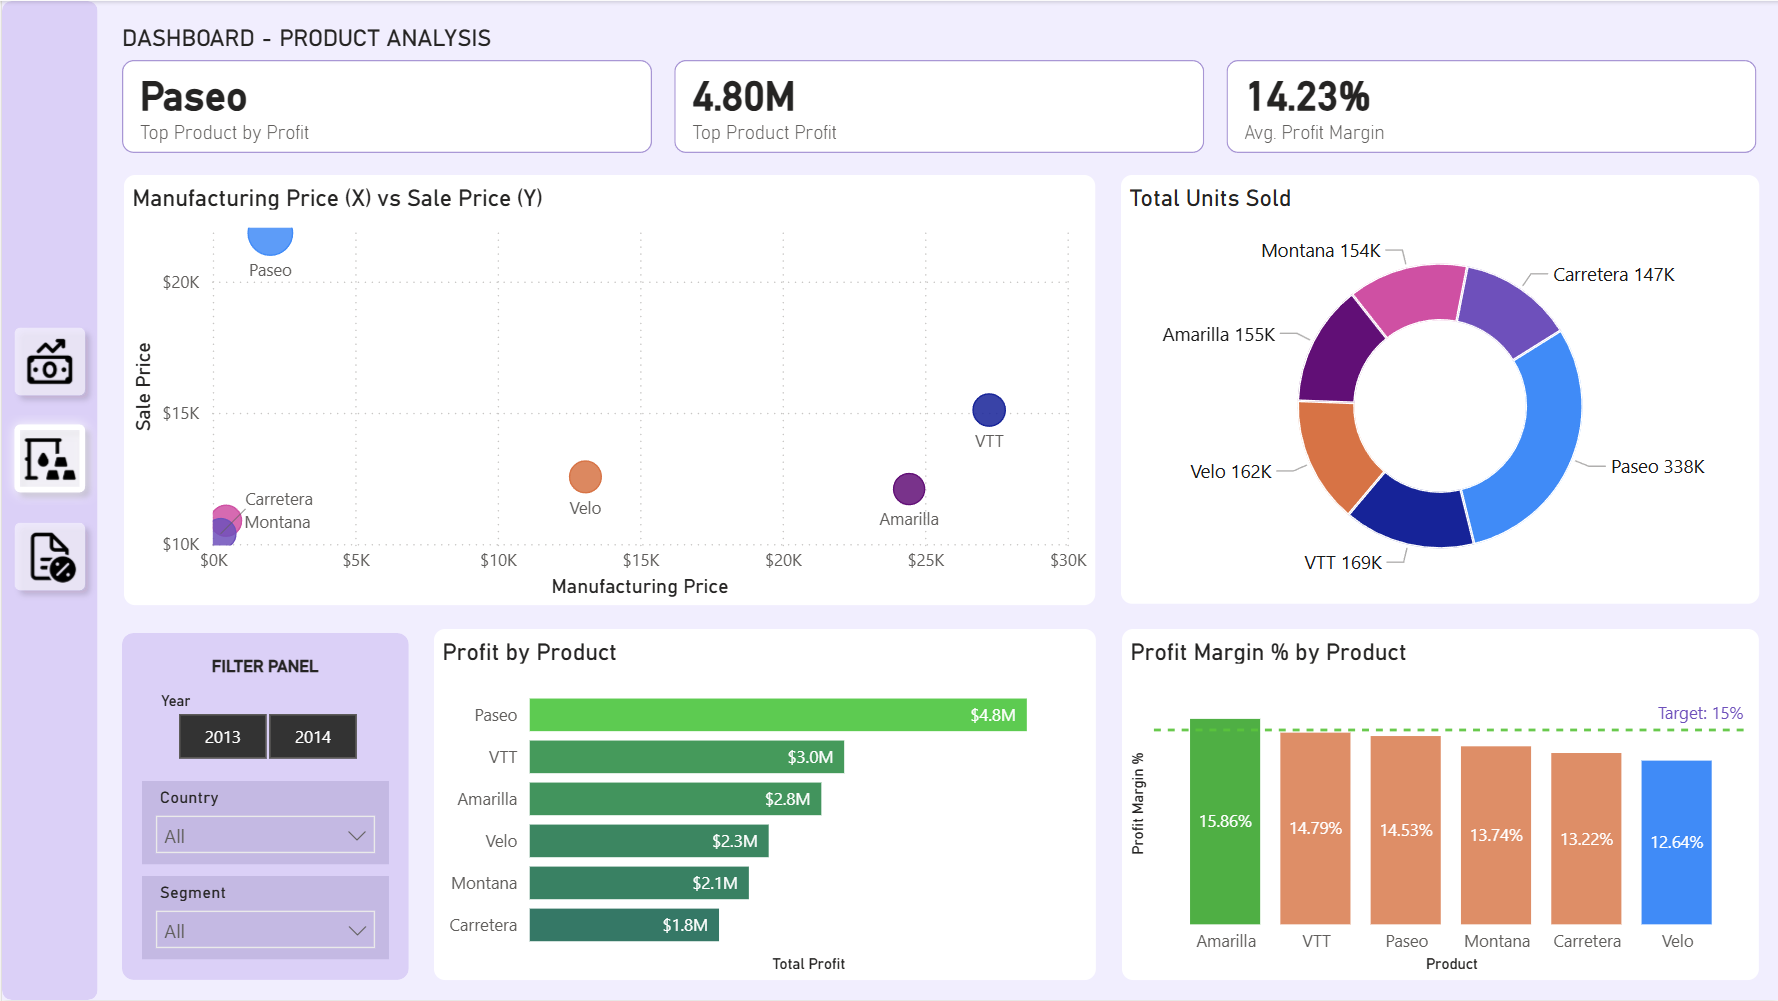

What the dashboard file says about the page in this screenshot:
{"tool":"powerbi","page":{"name":"Product Analysis","canvas":[1280,720],"ordinal":1},"visuals":[{"type":"cardVisual","title":"DASHBOARD - PRODUCT ANALYSIS","fields":{"Data":["financials.Top Product by Profit","financials.Top Product Profit","financials.Profit Margin"]},"box":[86.6,11.7,1179.8,113.8],"z":0},{"type":"scatterChart","title":"Manufacturing Price (X) vs Sale Price (Y)","fields":{"X":["Sum(financials.Manufacturing Price)"],"Y":["Sum(financials.Sale Price)"],"Size":["Sum(financials.Units Sold)"],"Series":["financials.Product"]},"box":[87.8,125.6,700,310],"z":1000},{"type":"barChart","title":"Profit by Product","fields":{"Category":["financials.Product"],"Y":["financials.Total Profit"]},"box":[311.4,452.9,477.1,252.9],"z":2000},{"type":"columnChart","title":"Profit Margin % by Product","fields":{"Category":["financials.Product"],"Y":["financials.Profit Margin"]},"box":[807.1,452.9,458.6,252.9],"z":3000},{"type":"shape","box":[0,0,68.9,720],"z":4000},{"type":"shape","box":[86.7,455.6,206.7,250],"z":4000,"group":"g1"},{"type":"donutChart","title":"Total Units Sold","fields":{"Y":["financials.Total Units Sold"],"Category":["financials.Product"]},"box":[806.7,125.6,460,308.9],"z":5000},{"type":"slicer","title":"Year","fields":{"Values":["financials.Date.Variation.Date Hierarchy.Year"]},"box":[101.7,493.4,178,60],"z":5000,"group":"g1"},{"type":"group","id":"g1","title":"Group 1","box":[86.7,455.6,206.7,250],"z":6000},{"type":"slicer","fields":{"Values":["financials.Country"]},"box":[100.9,562.3,177.9,60],"z":6000,"group":"g1"},{"type":"actionButton","box":[0,226.3,68.9,66.9],"z":7000},{"type":"slicer","fields":{"Values":["financials.Segment"]},"box":[101.3,630.9,178.2,60.4],"z":7000,"group":"g1"},{"type":"actionButton","box":[0,296.1,68.9,66.9],"z":8000},{"type":"textbox","box":[135.1,465,110,27.9],"z":8000,"group":"g1"},{"type":"actionButton","box":[0,367,68.9,66.9],"z":9000}]}

Visuals, with their boxes on the page's 1280x720 design canvas (x1, y1, x2, y2). These are canvas units, not pixel positions in the 1778x1001 screenshot, which may show the page scaled, cropped or inside an application window:
"DASHBOARD - PRODUCT ANALYSIS" cardVisual: 87,12,1266,126
"Manufacturing Price (X) vs Sale Price (Y)" scatterChart: 88,126,788,436
"Profit by Product" barChart: 311,453,788,706
"Profit Margin % by Product" columnChart: 807,453,1266,706
shape: 0,0,69,720
shape: 87,456,293,706
"Total Units Sold" donutChart: 807,126,1267,434
"Year" slicer: 102,493,280,553
"Group 1" group: 87,456,293,706
slicer - financials.Country: 101,562,279,622
actionButton: 0,226,69,293
slicer - financials.Segment: 101,631,280,691
actionButton: 0,296,69,363
textbox: 135,465,245,493
actionButton: 0,367,69,434
